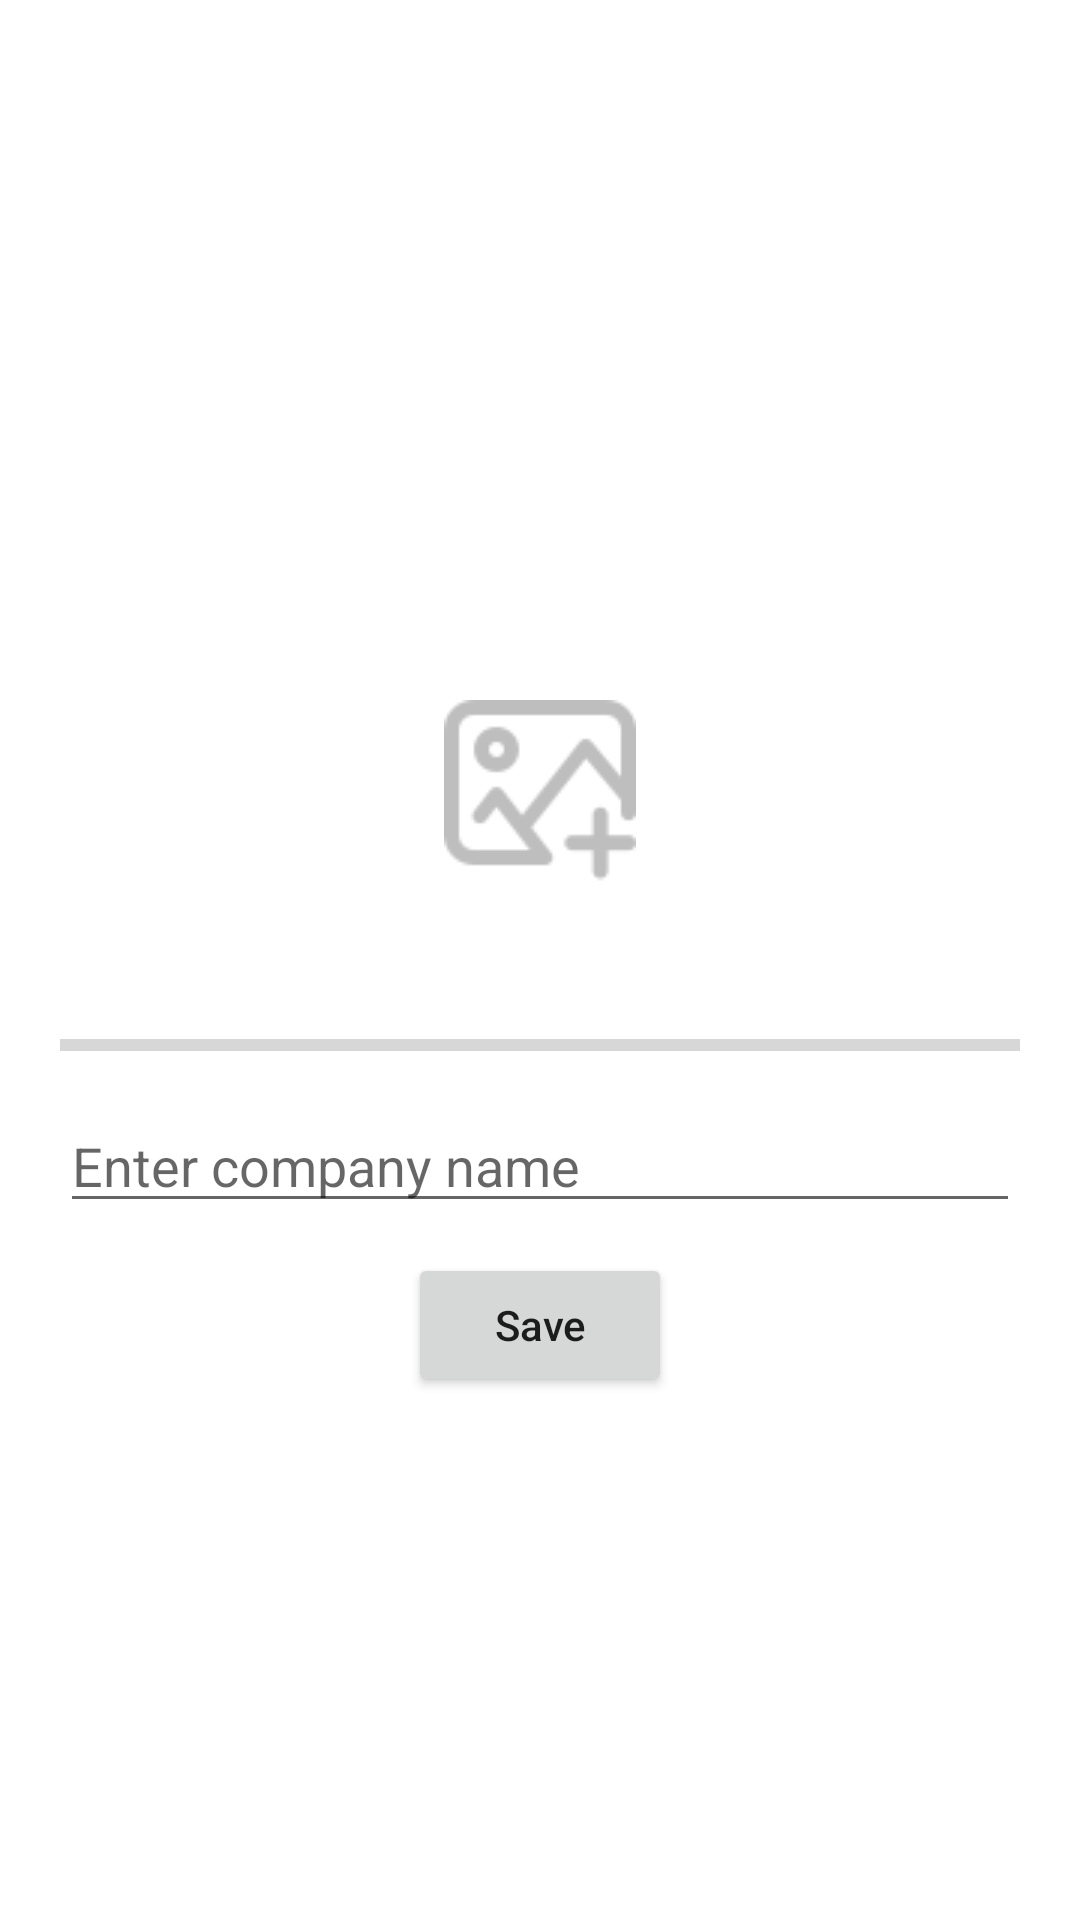

Icons on this 1080px x 1920px Android screen, each with its box as (x1, y1, x2, y2):
add: (444, 700, 636, 879)
